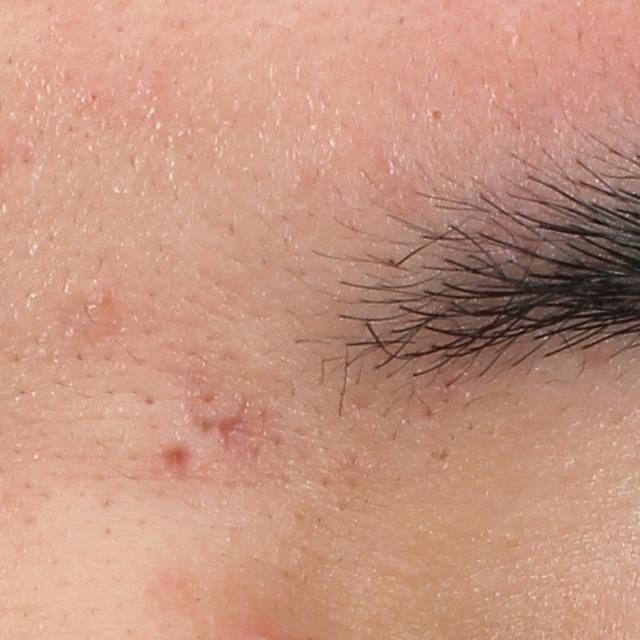atrophic_scar: (197, 390, 255, 452), (158, 440, 197, 475)
comedo: (427, 104, 446, 123)
